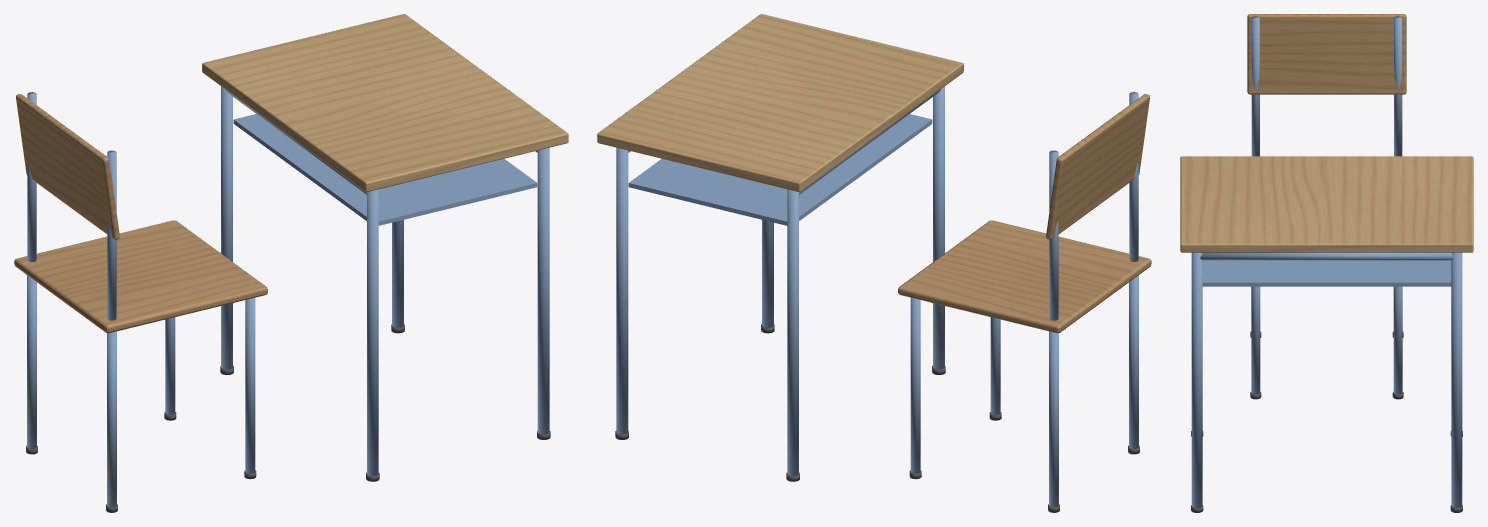
The model's file is sala.pupitre.fbx.
3 renders of one model, left to right at view 1: azimuth 30°, elevation 25°; view 2: azimuth 150°, elevation 25°; view 3: azimuth 270°, elevation 25°, orthographic. The views are drawn at different scales.
Parts seen in each view (by area): view 1: Cubierta del pupitre, Asiento, Parrilla, Respaldo, Pata.001, Pata.003, Pata.002, Pata de la silla.001, Pata de la silla.003, Pata de la silla.002, Pata, Pata del respaldo.001 (+2 smaller); view 2: Cubierta del pupitre, Asiento, Parrilla, Respaldo, Pata, Pata.002, Pata.003, Pata de la silla, Pata de la silla.002, Pata de la silla.003, Pata.001, Pata del respaldo (+2 smaller); view 3: Cubierta del pupitre, Respaldo, Parrilla, Pata, Pata.001, Travesano, Pata del respaldo, Pata del respaldo.001, Pata de la silla, Pata de la silla.001.
Boxes of the visible parts, left/top/right/bottom form: Cubierta del pupitre: left=202, top=14, right=568, bottom=191; Asiento: left=14, top=220, right=267, bottom=333; Parrilla: left=233, top=114, right=537, bottom=225; Respaldo: left=16, top=94, right=119, bottom=239; Pata.001: left=537, top=147, right=549, bottom=434; Pata.003: left=367, top=189, right=378, bottom=476; Pata.002: left=221, top=86, right=232, bottom=369; Pata de la silla.001: left=245, top=297, right=255, bottom=473; Pata de la silla.003: left=107, top=331, right=116, bottom=507; Pata de la silla.002: left=27, top=275, right=36, bottom=448; Pata: left=392, top=220, right=403, bottom=327; Pata del respaldo.001: left=107, top=150, right=116, bottom=320; Cubierta del pupitre: left=597, top=14, right=963, bottom=191; Asiento: left=898, top=220, right=1151, bottom=333; Parrilla: left=628, top=114, right=932, bottom=225; Respaldo: left=1046, top=94, right=1149, bottom=239; Pata: left=616, top=147, right=628, bottom=434; Pata.002: left=787, top=189, right=798, bottom=476; Pata.003: left=933, top=86, right=944, bottom=369; Pata de la silla: left=910, top=297, right=920, bottom=473; Pata de la silla.002: left=1049, top=331, right=1058, bottom=507; Pata de la silla.003: left=1129, top=275, right=1138, bottom=448; Pata.001: left=762, top=220, right=773, bottom=327; Pata del respaldo: left=1049, top=150, right=1058, bottom=320; Cubierta del pupitre: left=1180, top=156, right=1473, bottom=252; Respaldo: left=1247, top=14, right=1406, bottom=94; Parrilla: left=1202, top=260, right=1451, bottom=286; Pata: left=1451, top=252, right=1462, bottom=507; Pata.001: left=1191, top=252, right=1202, bottom=507; Travesano: left=1200, top=252, right=1453, bottom=260; Pata del respaldo: left=1394, top=16, right=1402, bottom=156; Pata del respaldo.001: left=1251, top=16, right=1259, bottom=156; Pata de la silla: left=1393, top=286, right=1402, bottom=394; Pata de la silla.001: left=1251, top=286, right=1260, bottom=394.
Size of the model in its own units: 1.05 by 0.84 by 0.7.
Materials: 4 (2 with a texture image).
